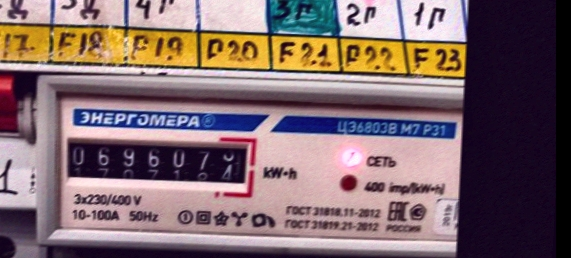0: (170, 146, 186, 169), (70, 144, 85, 166)
4: (220, 161, 234, 183)
6: (95, 145, 110, 166), (145, 147, 160, 168)
7: (195, 149, 211, 171)
9: (120, 146, 134, 167)
screen: (52, 127, 261, 195)
